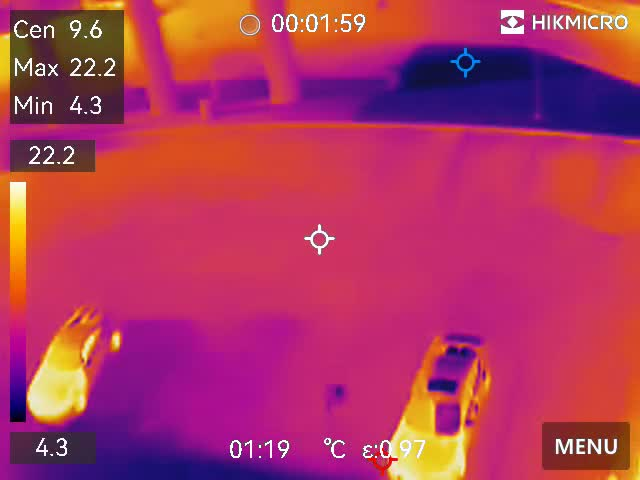smallCar: (384, 303, 492, 480)
vehicle: (21, 294, 124, 434)
